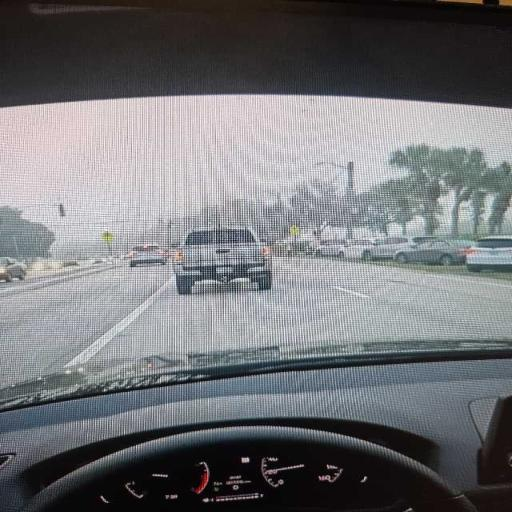car: (174, 228, 271, 294), (394, 240, 470, 265), (361, 236, 436, 259), (466, 236, 511, 271), (129, 245, 167, 267), (0, 257, 26, 282), (343, 239, 371, 259), (314, 241, 346, 257), (63, 260, 79, 267)
lane: (92, 260, 511, 360), (0, 266, 171, 384)
